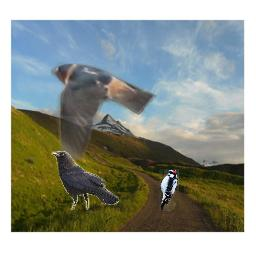Crow: (51, 151, 119, 210)
Swallow: (51, 59, 157, 160)
Woodpecker: (158, 169, 179, 211)
